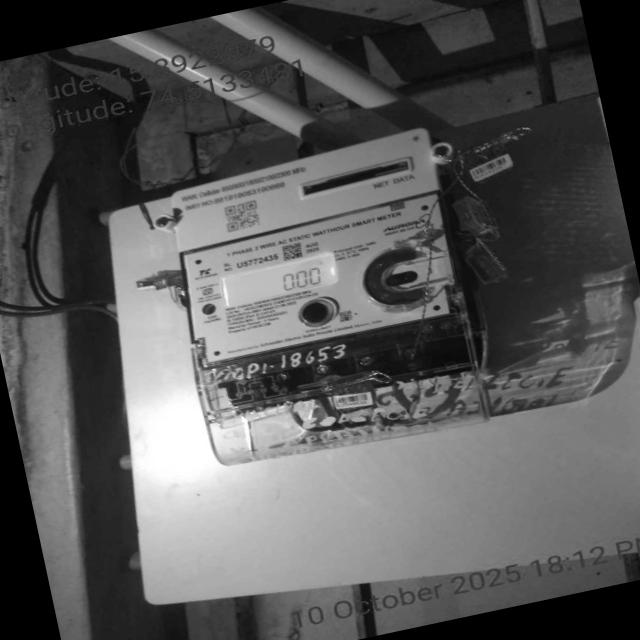meter: (162, 127, 464, 365)
